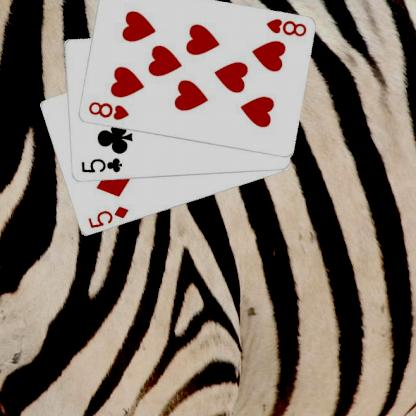5C: (78, 156, 124, 174)
5D: (84, 204, 129, 230)
8H: (86, 98, 131, 122), (263, 16, 307, 38)
